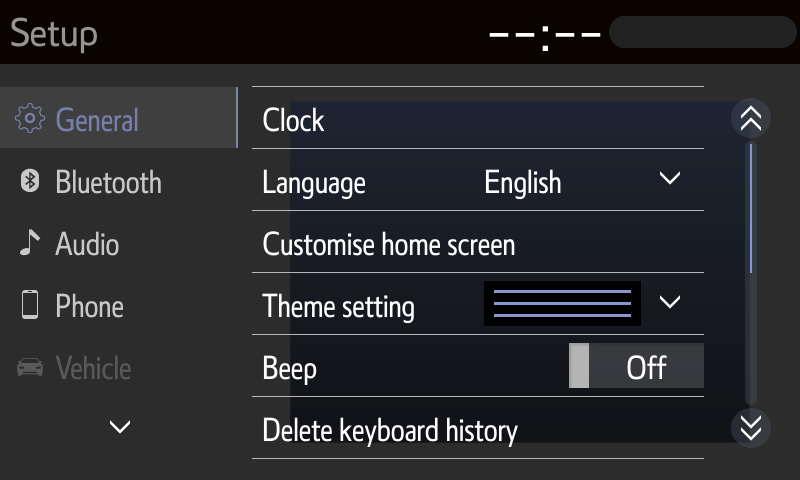touchPart: (241, 393, 710, 467), (242, 330, 706, 403), (245, 268, 704, 338), (250, 81, 705, 151), (246, 146, 706, 215), (245, 208, 706, 276), (10, 162, 161, 199), (9, 222, 125, 264), (12, 283, 124, 325), (99, 409, 144, 443), (733, 405, 769, 447), (731, 97, 768, 136)
untouchPart: (606, 8, 797, 53), (10, 96, 145, 139), (14, 346, 135, 388), (478, 22, 600, 55), (12, 15, 97, 55)
